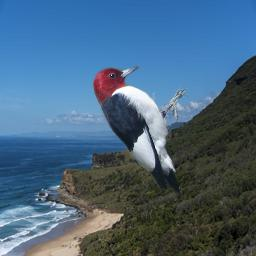Woodpecker: (92, 65, 191, 194)
